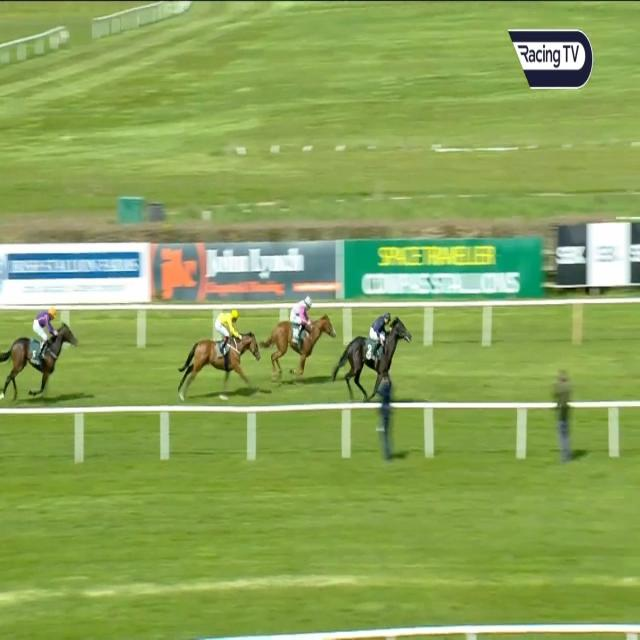horses-racing: (1, 308, 77, 407), (180, 308, 258, 404), (340, 311, 412, 405), (266, 302, 335, 378)
